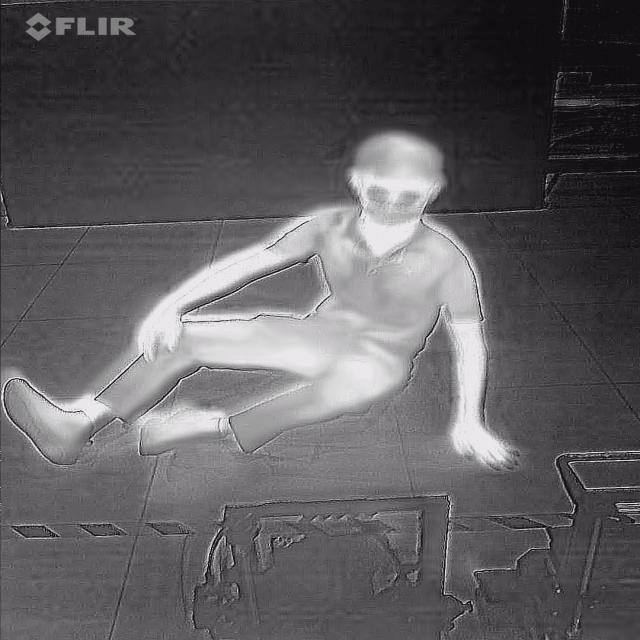Victim: (0, 127, 528, 485)
